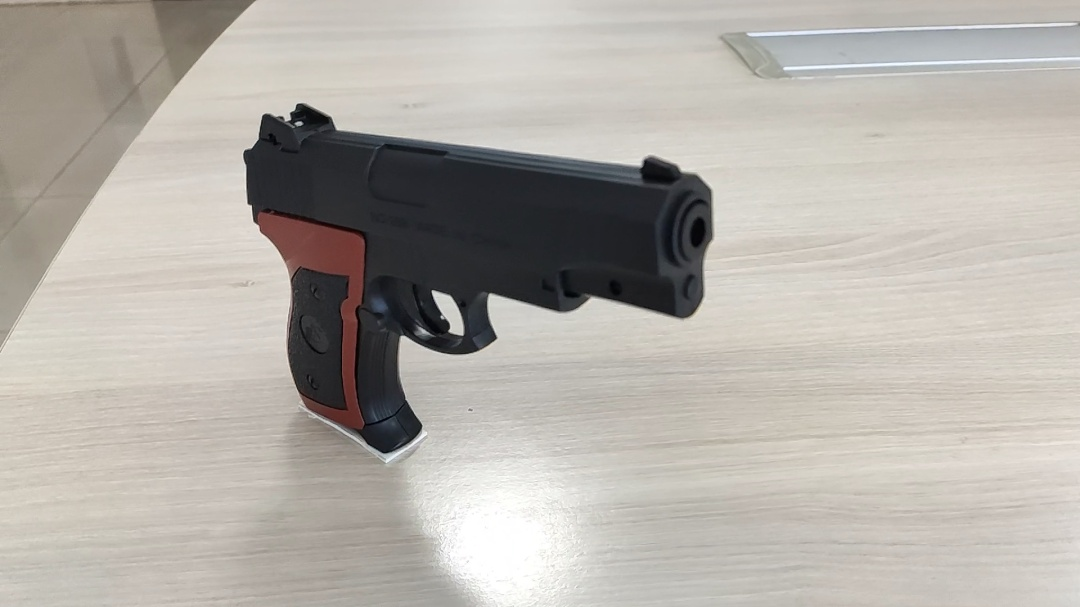gun: (588, 231, 625, 286)
